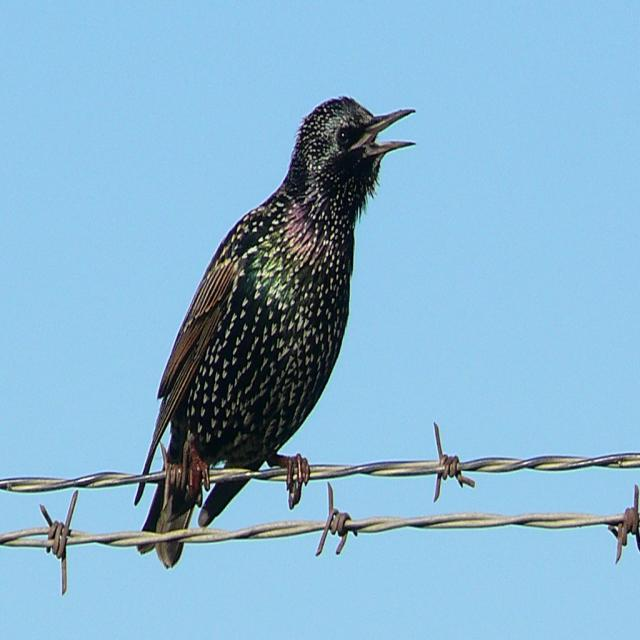bird: (123, 71, 430, 584)
